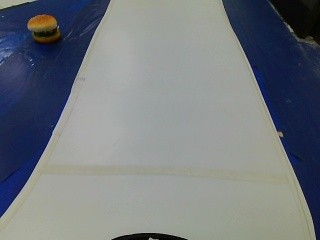burger: (23, 13, 65, 45)
